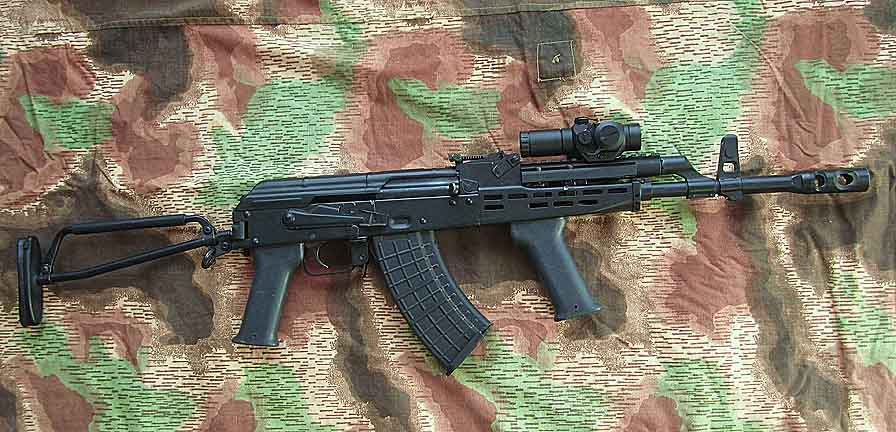Rifle: (11, 114, 872, 375)
